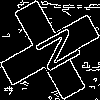N: (25, 25, 83, 80)
